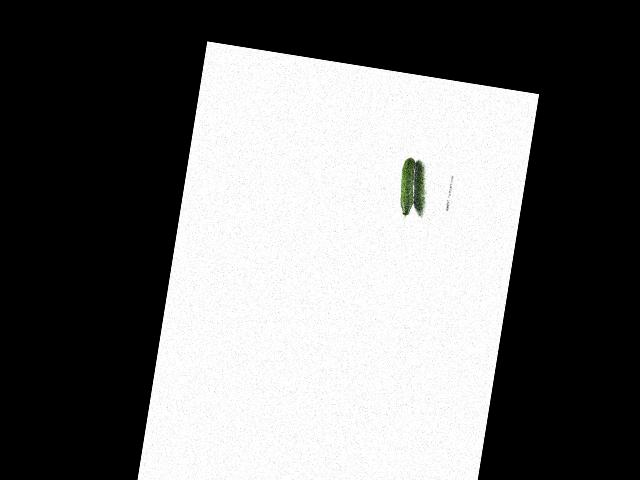cucumber: (395, 157, 420, 218)
